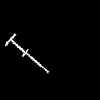double_crochet: (5, 34, 48, 72)
